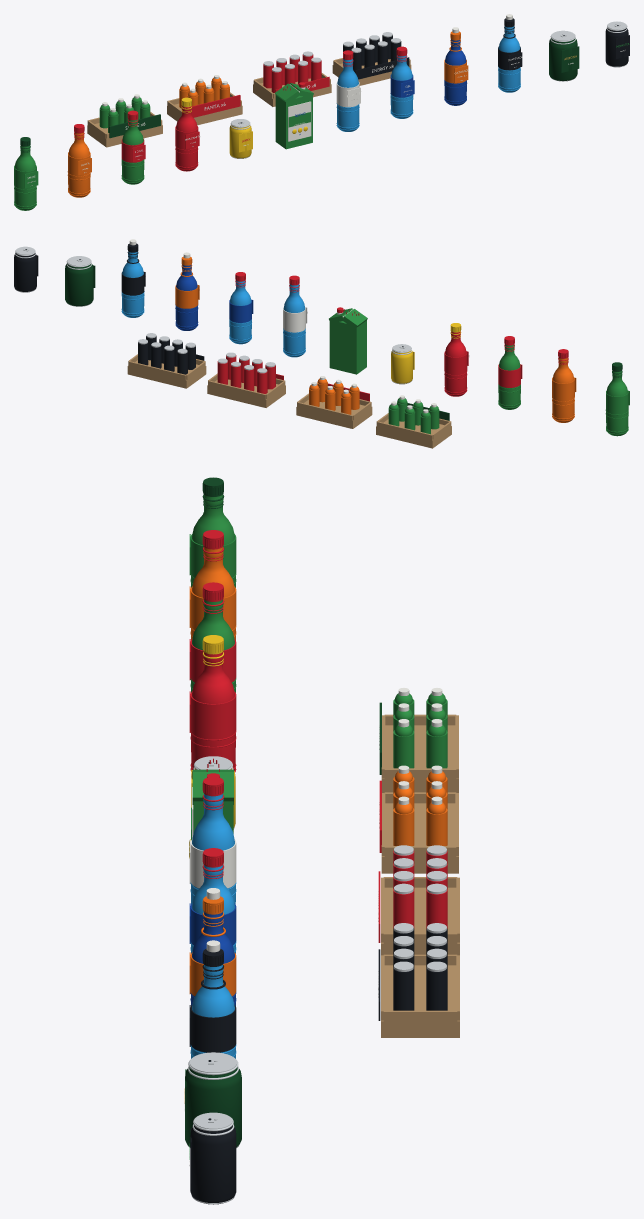
File: bebidas.glb
The picture shows the model from 3 angles, top to bottom: view 1: azimuth 30°, elevation 25°; view 2: azimuth 150°, elevation 25°; view 3: azimuth 270°, elevation 25°; orthographic projection. The views are drawn at different scales.
Visible parts, largest first — view 1: CHAROLA_LATAS_REFRESCO, CHAROLA_LATAS_ENERGIA, PAQUETE_SEIS_SPRITE, BOING_GUAYABA_Carton, PAQUETE_SEIS_FANTA, BONAFONT_1L_Cuerpo, POWERADE_AZUL_Cuerpo, SPRITE_600ML_Cuerpo, GATORADE_AZUL_Cuerpo, FANTA_NARANJA_600ML_Cuerpo, SIDRAL_MUNDET_600ML_Cuerpo, MANZANITA_SOL_600ML_Cuerpo (+15 smaller); view 2: BOING_GUAYABA_Carton, CHAROLA_LATAS_REFRESCO, CHAROLA_LATAS_ENERGIA, PAQUETE_SEIS_SPRITE, PAQUETE_SEIS_FANTA, ARIZONA_TEA_LATA_CuerpoLata, BONAFONT_1L_Cuerpo, POWERADE_AZUL_Cuerpo, GATORADE_AZUL_Cuerpo, SIDRAL_MUNDET_600ML_Cuerpo, MANZANITA_SOL_600ML_Cuerpo, FANTA_NARANJA_600ML_Cuerpo (+20 smaller); view 3: CHAROLA_LATAS_ENERGIA, CHAROLA_LATAS_REFRESCO, PAQUETE_SEIS_FANTA, PAQUETE_SEIS_SPRITE, MONSTER_ENERGY_CuerpoLata, ARIZONA_TEA_LATA_CuerpoLata, MANZANITA_SOL_600ML_Cuerpo, CHAROLA_LATAS_ENERGIA_Charola, PAQUETE_SEIS_FANTA_Bandeja, PAQUETE_SEIS_SPRITE_Bandeja, BONAFONT_1L_Cuerpo, POWERADE_AZUL_EtiquetaEnvolvente (+10 smaller).
Part boxes in pixels (left/top/right/bottom): CHAROLA_LATAS_REFRESCO: left=263, top=51, right=321, bottom=92; CHAROLA_LATAS_ENERGIA: left=343, top=32, right=401, bottom=72; PAQUETE_SEIS_SPRITE: left=99, top=94, right=150, bottom=132; BOING_GUAYABA_Carton: left=275, top=95, right=312, bottom=149; PAQUETE_SEIS_FANTA: left=179, top=75, right=229, bottom=108; BONAFONT_1L_Cuerpo: left=337, top=59, right=359, bottom=131; POWERADE_AZUL_Cuerpo: left=498, top=26, right=520, bottom=92; SPRITE_600ML_Cuerpo: left=14, top=145, right=36, bottom=210; GATORADE_AZUL_Cuerpo: left=444, top=39, right=466, bottom=105; FANTA_NARANJA_600ML_Cuerpo: left=68, top=132, right=90, bottom=197; SIDRAL_MUNDET_600ML_Cuerpo: left=121, top=119, right=144, bottom=184; MANZANITA_SOL_600ML_Cuerpo: left=175, top=106, right=197, bottom=171; BOING_GUAYABA_Carton: left=329, top=320, right=366, bottom=374; CHAROLA_LATAS_REFRESCO: left=217, top=352, right=275, bottom=393; CHAROLA_LATAS_ENERGIA: left=138, top=333, right=195, bottom=374; PAQUETE_SEIS_SPRITE: left=388, top=395, right=439, bottom=434; PAQUETE_SEIS_FANTA: left=309, top=376, right=359, bottom=414; ARIZONA_TEA_LATA_CuerpoLata: left=65, top=263, right=93, bottom=306; BONAFONT_1L_Cuerpo: left=283, top=284, right=305, bottom=357; POWERADE_AZUL_Cuerpo: left=121, top=251, right=144, bottom=317; GATORADE_AZUL_Cuerpo: left=175, top=265, right=197, bottom=330; SIDRAL_MUNDET_600ML_Cuerpo: left=498, top=345, right=520, bottom=409; MANZANITA_SOL_600ML_Cuerpo: left=444, top=331, right=466, bottom=396; FANTA_NARANJA_600ML_Cuerpo: left=552, top=358, right=574, bottom=422; CHAROLA_LATAS_ENERGIA: left=393, top=923, right=447, bottom=1010; CHAROLA_LATAS_REFRESCO: left=393, top=845, right=447, bottom=928; PAQUETE_SEIS_FANTA: left=393, top=765, right=447, bottom=845; PAQUETE_SEIS_SPRITE: left=393, top=688, right=447, bottom=768; MONSTER_ENERGY_CuerpoLata: left=190, top=1125, right=236, bottom=1204; ARIZONA_TEA_LATA_CuerpoLata: left=185, top=1067, right=241, bottom=1147; MANZANITA_SOL_600ML_Cuerpo: left=191, top=652, right=235, bottom=770; CHAROLA_LATAS_ENERGIA_Charola: left=381, top=965, right=459, bottom=1037; PAQUETE_SEIS_FANTA_Bandeja: left=381, top=803, right=458, bottom=873; PAQUETE_SEIS_SPRITE_Bandeja: left=381, top=725, right=458, bottom=792; BONAFONT_1L_Cuerpo: left=191, top=794, right=235, bottom=904; POWERADE_AZUL_EtiquetaEnvolvente: left=190, top=1005, right=236, bottom=1052.
Size of the model in its own units: 15.35 by 1.85 by 3.
